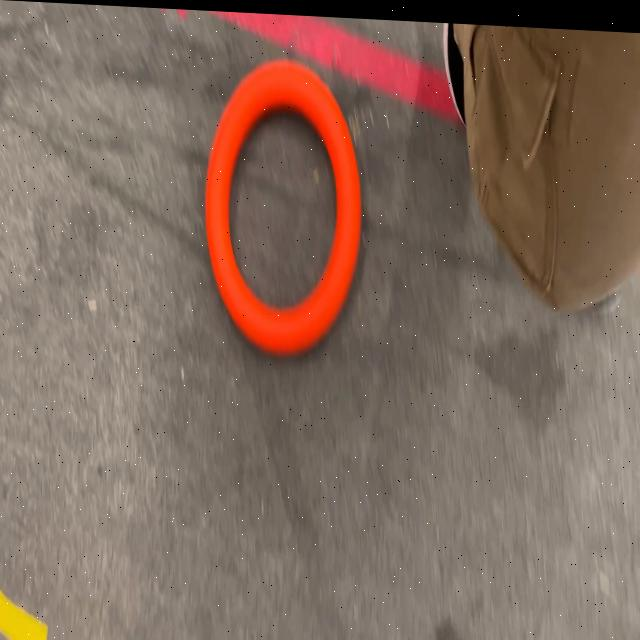note: (206, 51, 360, 352)
